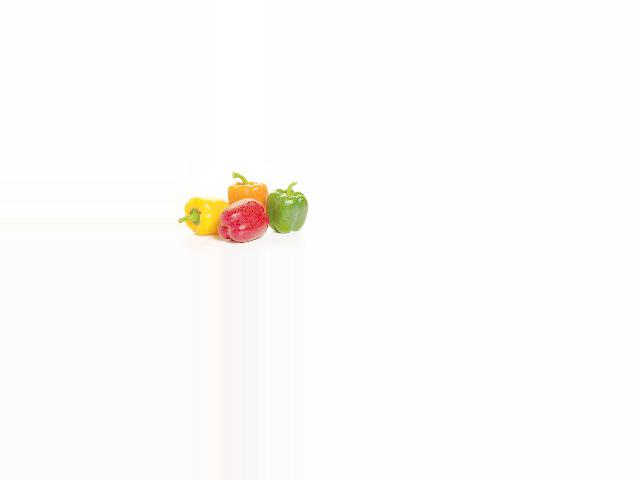bell_pepper: (263, 184, 308, 240)
